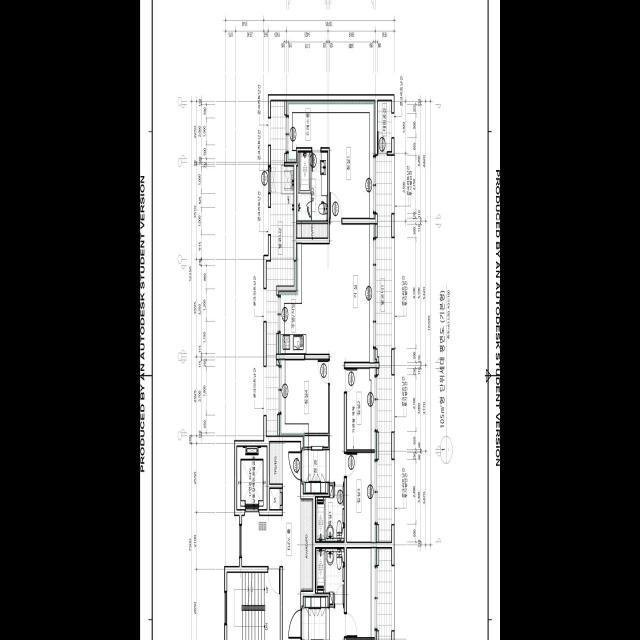background: (140, 0, 500, 640)
space_balconi: (267, 100, 294, 435), (376, 155, 392, 541)
space_bedroom: (330, 104, 373, 218), (281, 359, 328, 432), (347, 452, 375, 542), (347, 367, 375, 449)
space_dressroom: (289, 104, 330, 158)
space_elevator_hall: (241, 442, 301, 640)
space_front: (302, 450, 329, 492)
space_kitchen: (281, 243, 330, 353)
space_living_room: (330, 223, 373, 482)
space_other: (301, 501, 312, 588), (378, 100, 391, 153), (270, 442, 283, 483), (298, 224, 328, 237), (305, 436, 328, 446), (270, 488, 280, 509)
space_staircase: (227, 572, 280, 640)
space_toilet: (298, 152, 327, 220), (316, 481, 344, 541)
